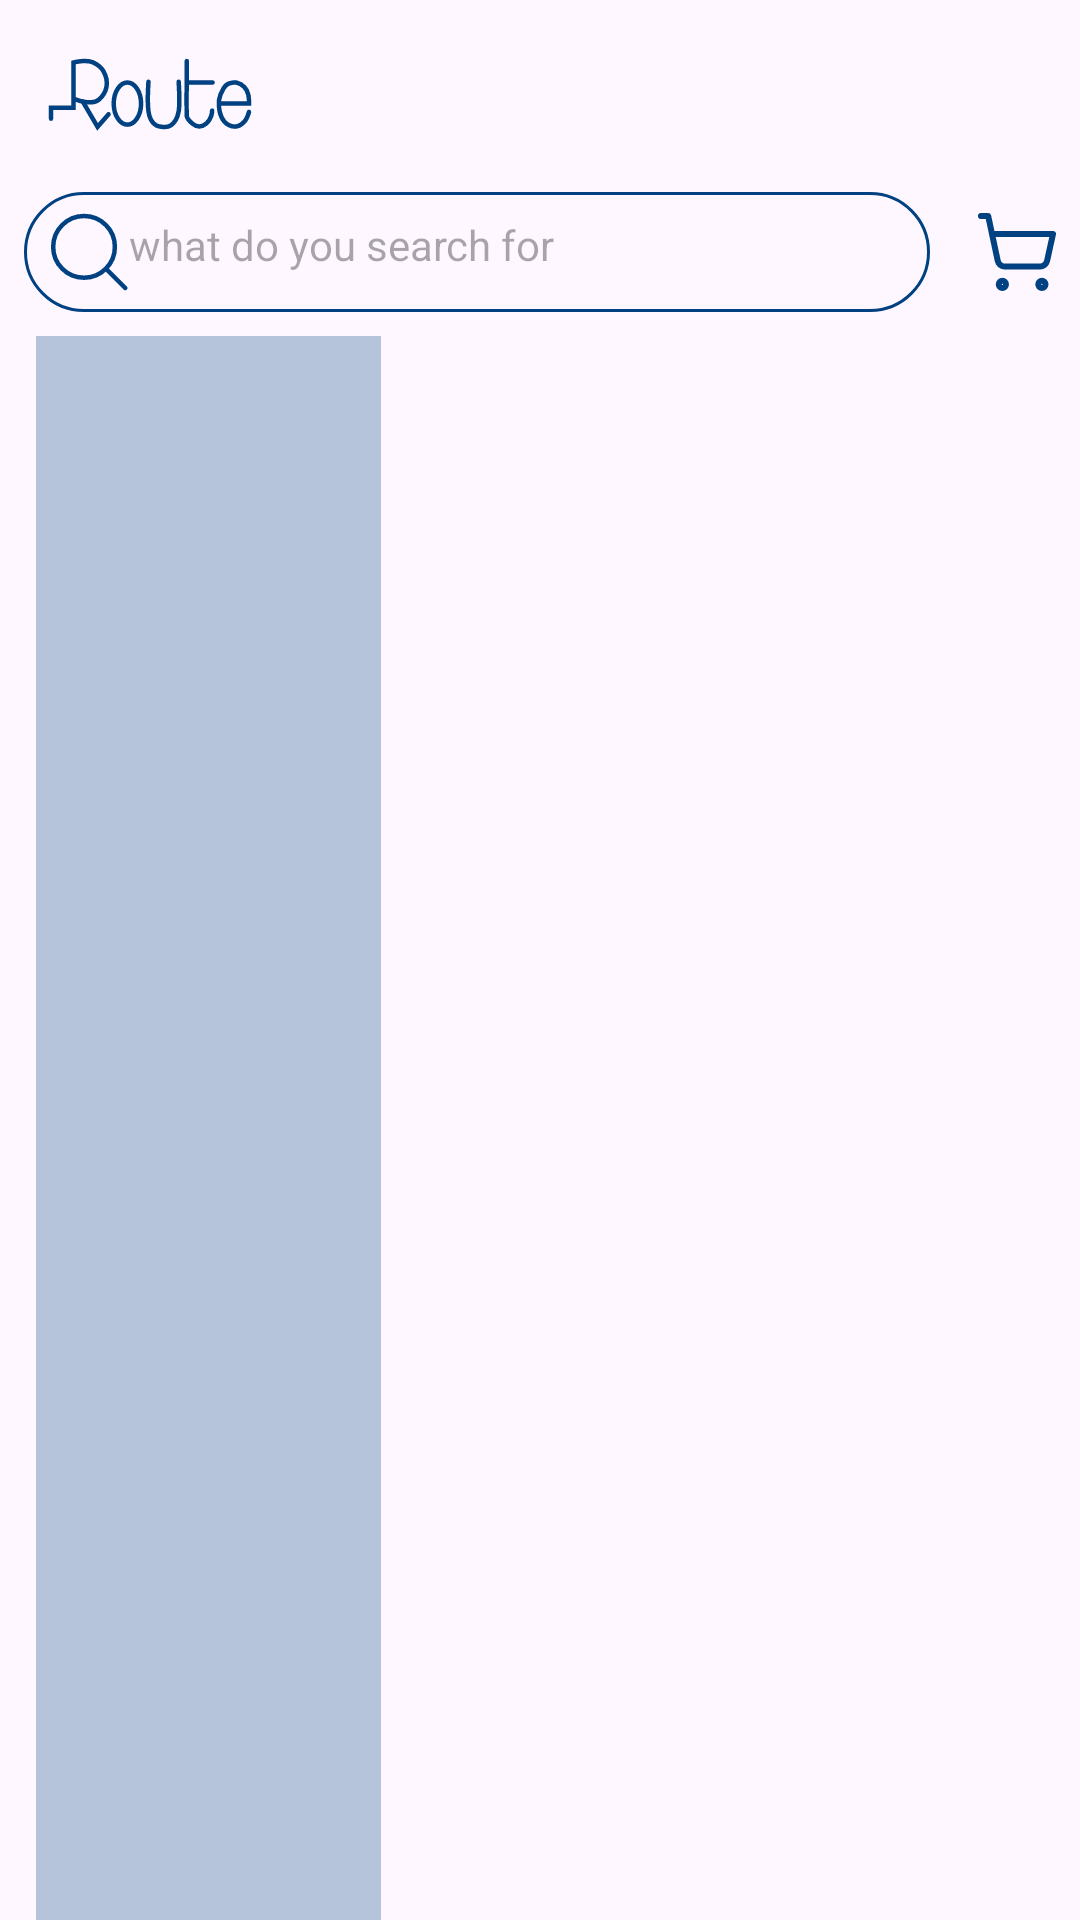

Screen size 1080 × 1920. Icon name, then its center in pixels as (x,y):
cart: (1017,252)
